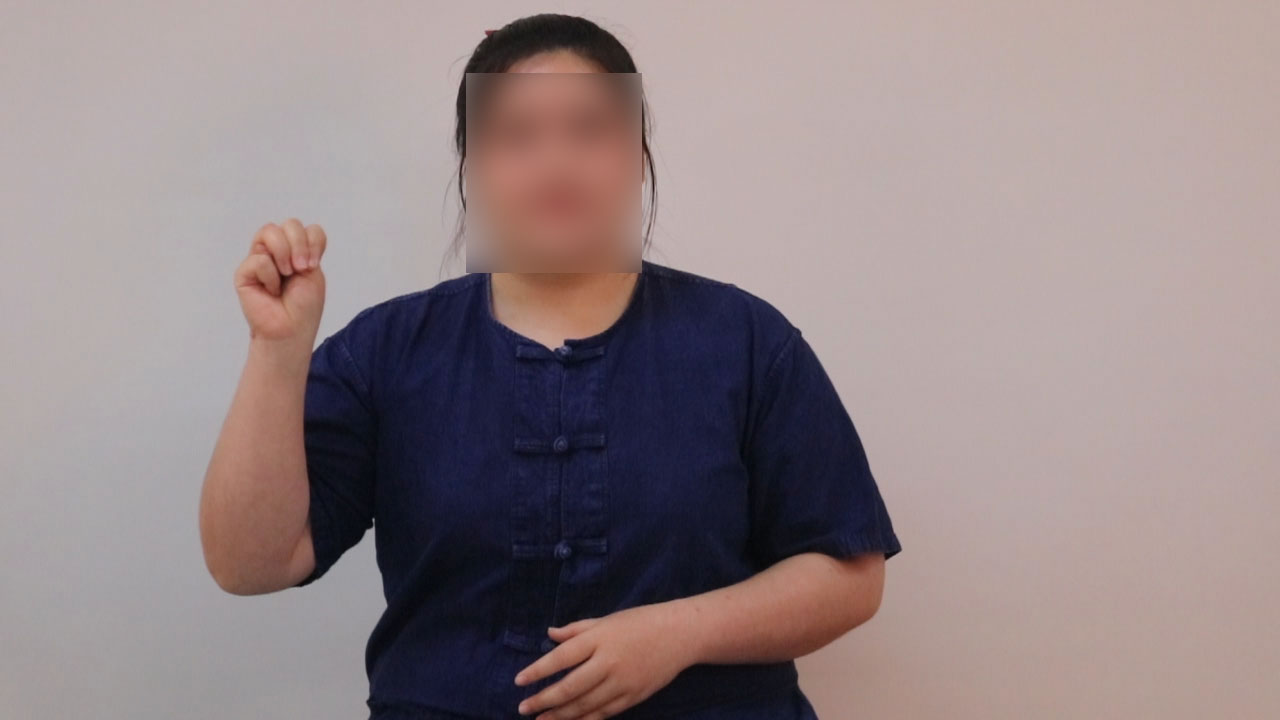mor: (220, 199, 345, 355)
